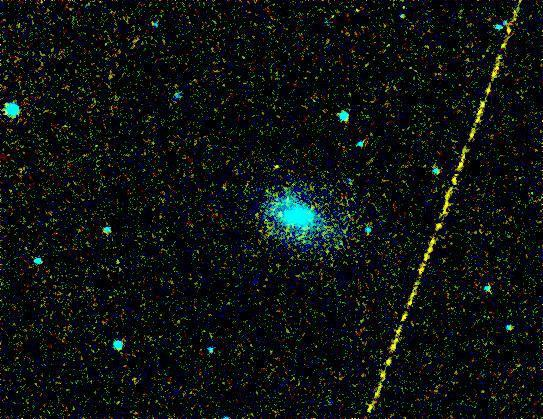star: (264, 153, 294, 183)
